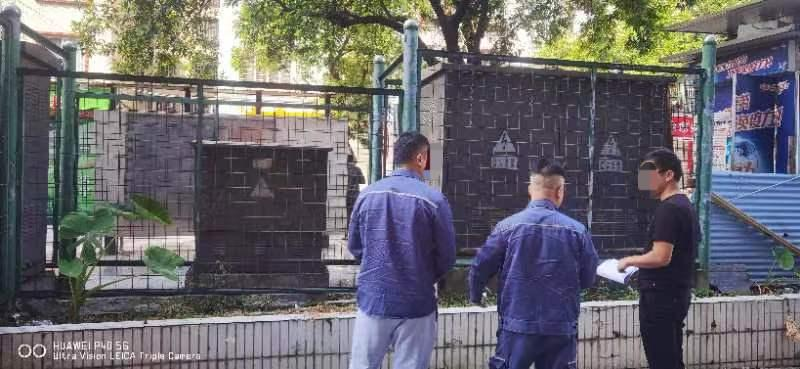noear: (661, 170, 679, 191), (415, 152, 429, 174), (557, 187, 566, 204)
unhalt: (641, 151, 687, 202), (394, 134, 435, 176), (529, 166, 571, 204)
